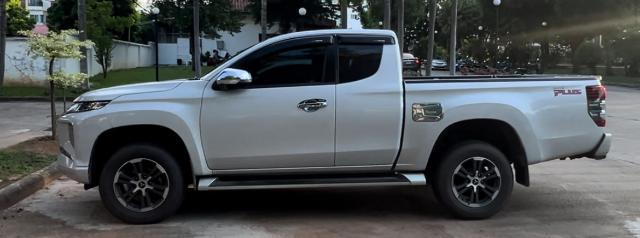pickup-truck: (55, 16, 614, 222)
